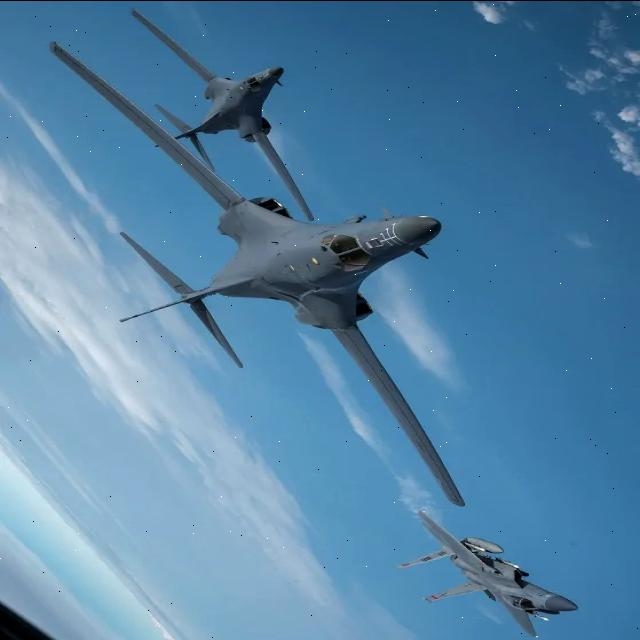B1: (27, 36, 504, 510), (110, 3, 330, 223), (356, 510, 633, 640)
